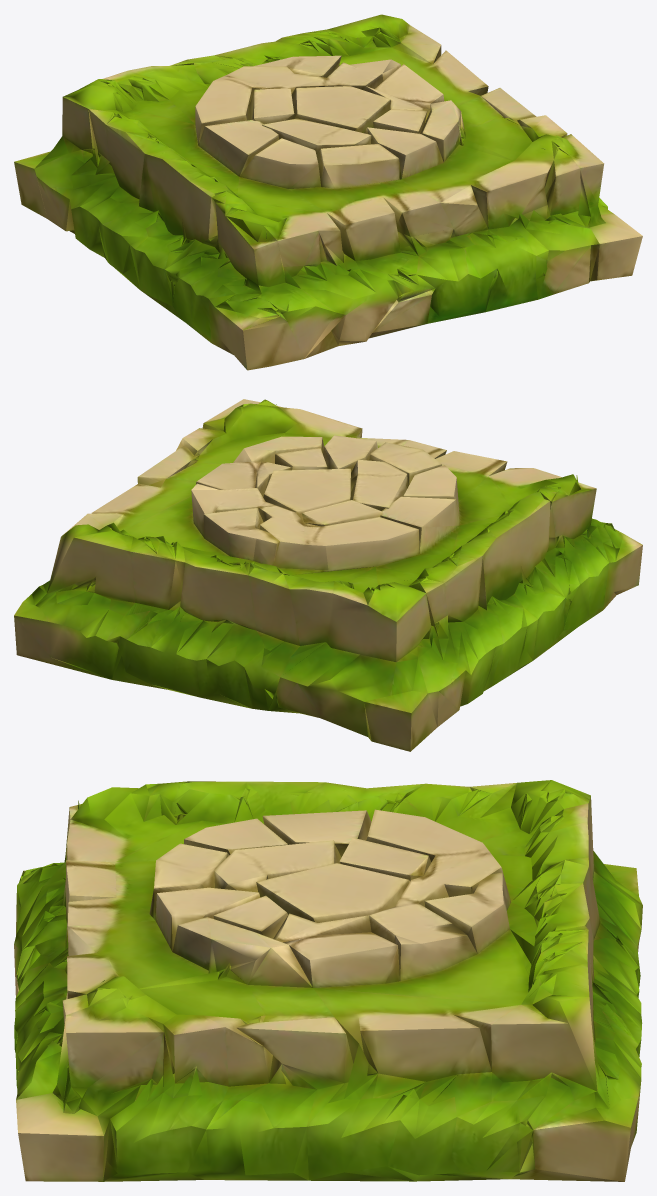
Rendered from skyPlatform.glb.
3 renders of one model, top to bottom at view 1: azimuth 30°, elevation 25°; view 2: azimuth 150°, elevation 25°; view 3: azimuth 270°, elevation 25°, orthographic. The views are drawn at different scales.
Visible parts, largest first — view 1: model; view 2: model; view 3: model.
Part boxes in pixels (x1=…): model: x1=14, y1=14, x2=642, y2=370; model: x1=14, y1=399, x2=642, y2=751; model: x1=14, y1=780, x2=642, y2=1181.
Bounding box in the file's own units: 1.89 × 0.5902 × 1.89.
Materials: 1 (1 with a texture image).
